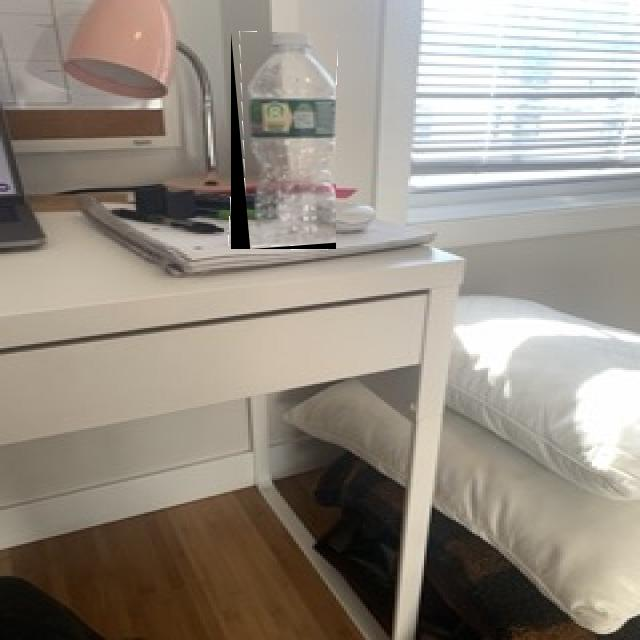water_bottle: (231, 32, 336, 249)
